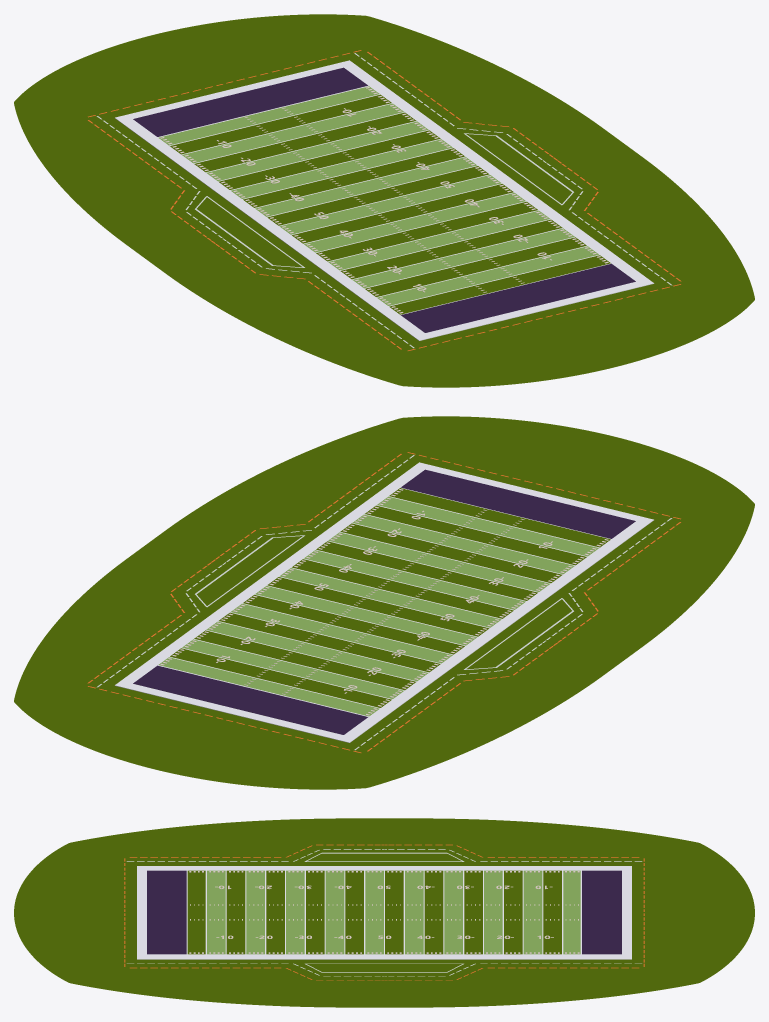
The model's file is SM_Floor.fbx.
3 renders of one model, top to bottom at view 1: azimuth 30°, elevation 25°; view 2: azimuth 150°, elevation 25°; view 3: azimuth 270°, elevation 25°, orthographic. The views are drawn at different scales.
Visible parts, largest first — view 1: SM_Floor; view 2: SM_Floor; view 3: SM_Floor.
Part boxes in pixels (<box>): SM_Floor: <box>14,14,754,387</box>; SM_Floor: <box>14,416,754,789</box>; SM_Floor: <box>14,818,754,1007</box>.
Bounding box in the file's own units: 5196 × 17.61 × 8602.
